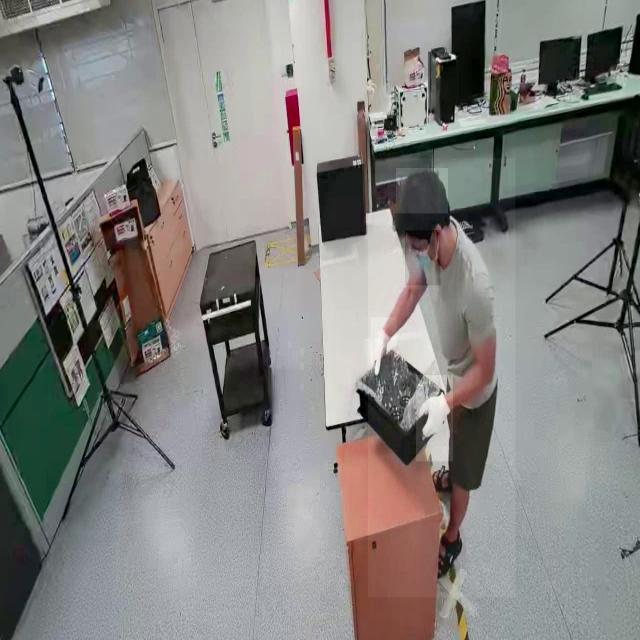face_mask: (405, 230, 441, 286)
hand_glove: (415, 375, 453, 462), (371, 318, 396, 380)
head_nohelmet: (396, 168, 448, 214)
person: (368, 158, 516, 598)
